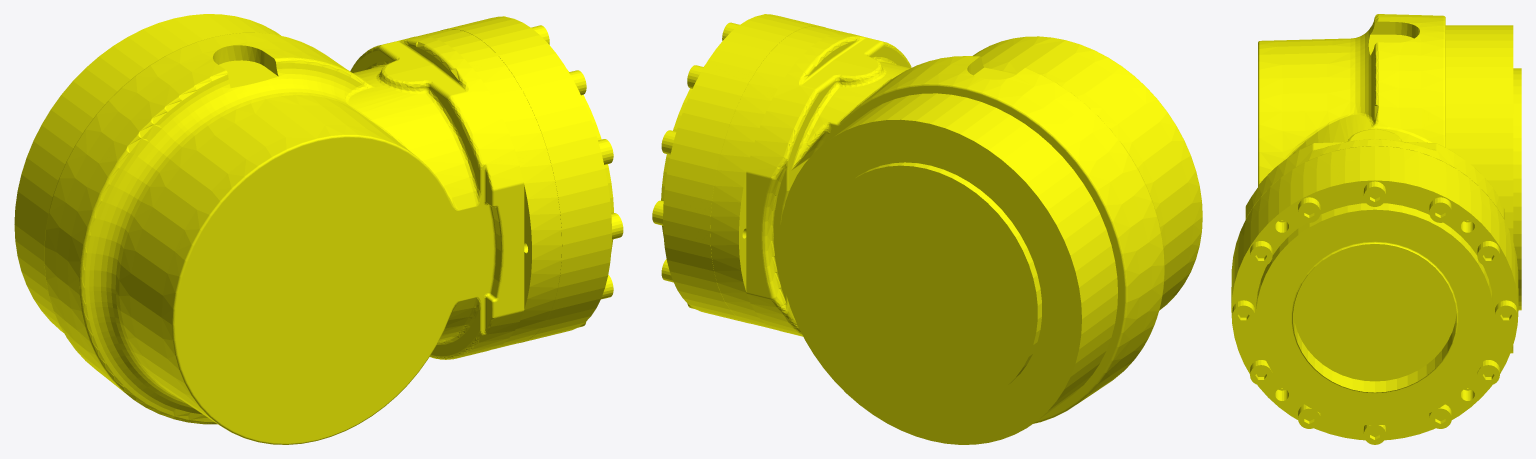
3 views of the same model, side by side, from view 1: azimuth 30°, elevation 25°; view 2: azimuth 150°, elevation 25°; view 3: azimuth 270°, elevation 25° (orthographic). The views are drawn at different scales.
Visible parts, largest first — view 1: node0; view 2: node0; view 3: node0.
Part boxes in pixels (x1,y1,x2,y2): node0: [14, 14, 623, 444]; node0: [652, 14, 1202, 444]; node0: [1231, 14, 1521, 444].
Size of the model in its own units: 0.1171 by 0.0708 by 0.0852.
